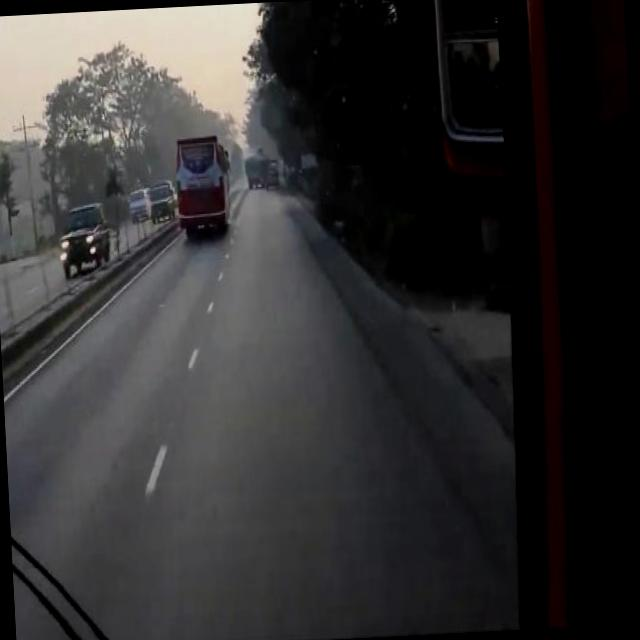bus: (176, 132, 234, 233)
truck: (56, 200, 110, 275), (151, 178, 177, 220), (246, 148, 270, 187), (128, 184, 152, 222)
